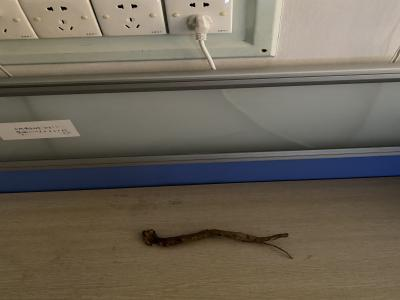Root: (142, 229, 289, 247)
